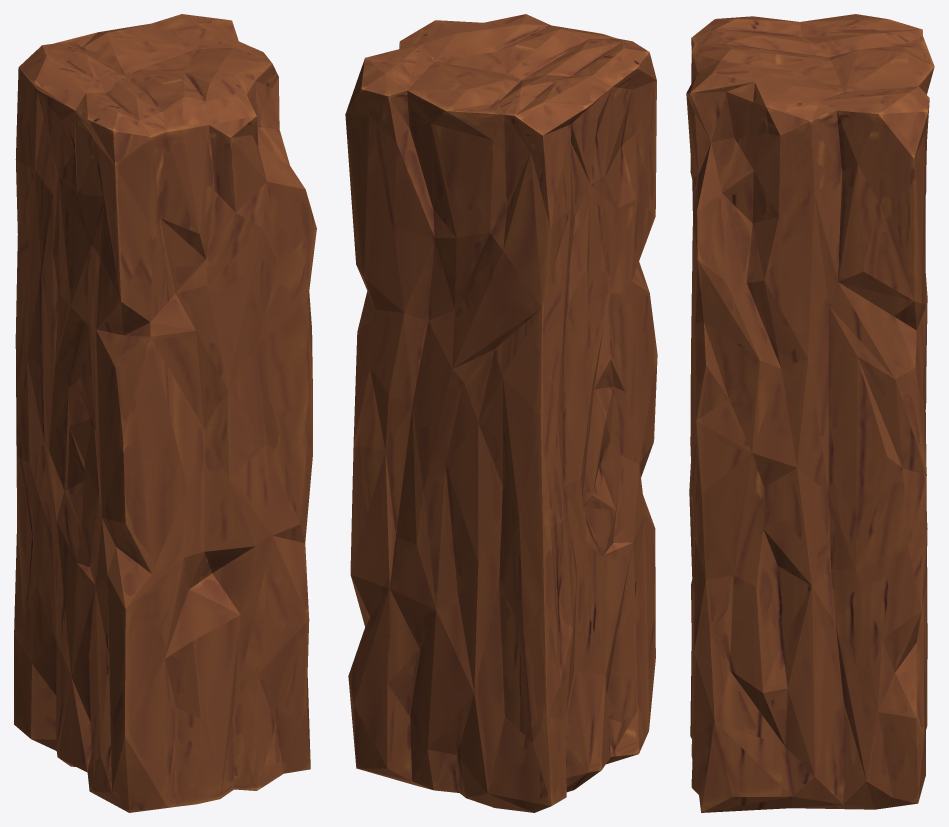
The model's file is wood.fbx.
The picture shows the model from 3 angles, left to right: view 1: azimuth 30°, elevation 25°; view 2: azimuth 150°, elevation 25°; view 3: azimuth 270°, elevation 25°; orthographic projection. The views are drawn at different scales.
Visible parts, largest first — view 1: Plank3LP; view 2: Plank3LP; view 3: Plank3LP.
Part boxes in pixels (x1=…): Plank3LP: x1=14, y1=14, x2=316, y2=812; Plank3LP: x1=345, y1=14, x2=657, y2=812; Plank3LP: x1=686, y1=14, x2=934, y2=812.
Size of the model in its own units: 256 by 808 by 255.
1 material, 1 textured.
